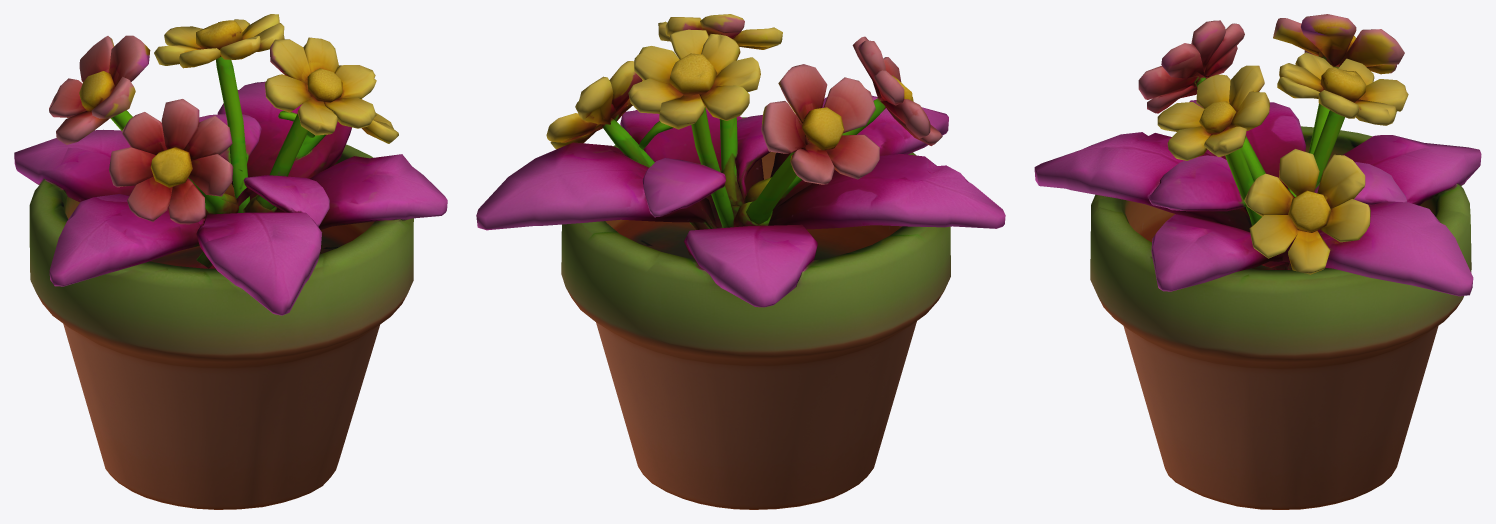
File: prop_planter.glb
3 renders of one model, left to right at view 1: azimuth 30°, elevation 25°; view 2: azimuth 150°, elevation 25°; view 3: azimuth 270°, elevation 25°, orthographic. The views are drawn at different scales.
Parts seen in each view (by area): view 1: tripo_node_23b7117b-d31c-4bc1-b982-00421766391e; view 2: tripo_node_23b7117b-d31c-4bc1-b982-00421766391e; view 3: tripo_node_23b7117b-d31c-4bc1-b982-00421766391e.
Boxes of the visible parts, x1,y1,x2,y2 form: tripo_node_23b7117b-d31c-4bc1-b982-00421766391e: (14,14,447,509); tripo_node_23b7117b-d31c-4bc1-b982-00421766391e: (476,14,1005,509); tripo_node_23b7117b-d31c-4bc1-b982-00421766391e: (1034,14,1481,509).
Bounding box in the file's own units: 0.9746 × 0.998 × 0.9707.
1 material, 1 textured.
